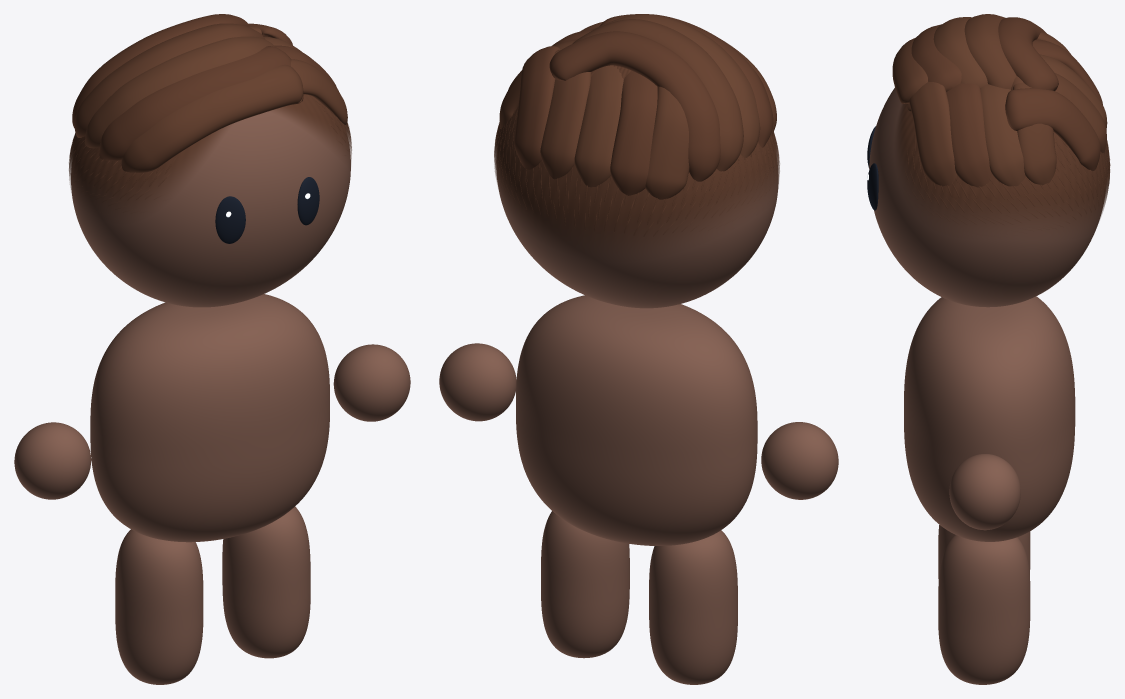
File: Taper-skin3.glb
3 renders of one model, left to right at view 1: azimuth 30°, elevation 25°; view 2: azimuth 150°, elevation 25°; view 3: azimuth 270°, elevation 25°, orthographic. The views are drawn at different scales.
Visible parts, largest first — view 1: Skin / compact torso, Skin / soft oval head, Skin / leg -1, Skin / leg 1, Hair / Taper short sides, Hair / Taper top 0, Hair / Taper top 1, Skin / hand -1, Skin / hand 1, Hair / Taper top 2, Hair / Taper top 3, Hair / Taper top 4 (+4 smaller); view 2: Skin / compact torso, Skin / soft oval head, Hair / Taper short sides, Skin / leg -1, Skin / leg 1, Hair / Taper top 4, Skin / hand 1, Skin / hand -1, Hair / Taper top 3, Hair / Taper crown 1, Hair / Taper crown 2, Hair / Taper crown 0 (+6 smaller); view 3: Skin / compact torso, Skin / soft oval head, Hair / Taper short sides, Skin / leg 1, Skin / hand 1, Hair / Taper crown 4, Hair / Taper short sweep 0, Hair / Taper short sweep 1, Hair / Taper short sweep 2, Hair / Taper top 4, Hair / Taper top 3, Hair / Taper short sweep 3 (+9 smaller).
Part boxes in pixels (x1=…): Skin / compact torso: x1=90, y1=294, x2=329, y2=542; Skin / soft oval head: x1=71, y1=107, x2=350, y2=307; Skin / leg -1: x1=115, y1=529, x2=203, y2=684; Skin / leg 1: x1=222, y1=506, x2=310, y2=658; Hair / Taper short sides: x1=69, y1=94, x2=351, y2=216; Hair / Taper top 0: x1=121, y1=64, x2=303, y2=172; Hair / Taper top 1: x1=99, y1=46, x2=291, y2=160; Skin / hand -1: x1=14, y1=422, x2=91, y2=499; Skin / hand 1: x1=333, y1=344, x2=410, y2=421; Hair / Taper top 2: x1=84, y1=36, x2=274, y2=148; Hair / Taper top 3: x1=74, y1=23, x2=265, y2=137; Hair / Taper top 4: x1=72, y1=14, x2=249, y2=127; Skin / compact torso: x1=516, y1=295, x2=757, y2=545; Skin / soft oval head: x1=496, y1=161, x2=778, y2=308; Hair / Taper short sides: x1=494, y1=65, x2=779, y2=254; Skin / leg -1: x1=649, y1=530, x2=737, y2=684; Skin / leg 1: x1=541, y1=511, x2=629, y2=658; Hair / Taper top 4: x1=549, y1=31, x2=720, y2=181; Skin / hand 1: x1=439, y1=343, x2=516, y2=421; Skin / hand -1: x1=761, y1=422, x2=838, y2=499; Hair / Taper top 3: x1=572, y1=19, x2=743, y2=171; Hair / Taper crown 1: x1=610, y1=71, x2=657, y2=195; Hair / Taper crown 2: x1=574, y1=65, x2=623, y2=187; Hair / Taper crown 0: x1=645, y1=86, x2=689, y2=199; Skin / compact torso: x1=904, y1=296, x2=1075, y2=541; Skin / soft oval head: x1=869, y1=88, x2=1104, y2=307; Hair / Taper short sides: x1=896, y1=104, x2=1109, y2=232; Skin / leg 1: x1=938, y1=535, x2=1030, y2=684; Skin / hand 1: x1=949, y1=454, x2=1020, y2=530; Hair / Taper crown 4: x1=1005, y1=88, x2=1100, y2=170; Hair / Taper short sweep 0: x1=909, y1=82, x2=957, y2=186; Hair / Taper short sweep 1: x1=946, y1=83, x2=991, y2=187; Hair / Taper short sweep 2: x1=980, y1=84, x2=1025, y2=186; Hair / Taper top 4: x1=998, y1=17, x2=1058, y2=90; Hair / Taper top 3: x1=964, y1=14, x2=1016, y2=89; Hair / Taper short sweep 3: x1=1013, y1=82, x2=1056, y2=185.
Size of the model in its own units: 1.49 by 2.34 by 0.8289.
